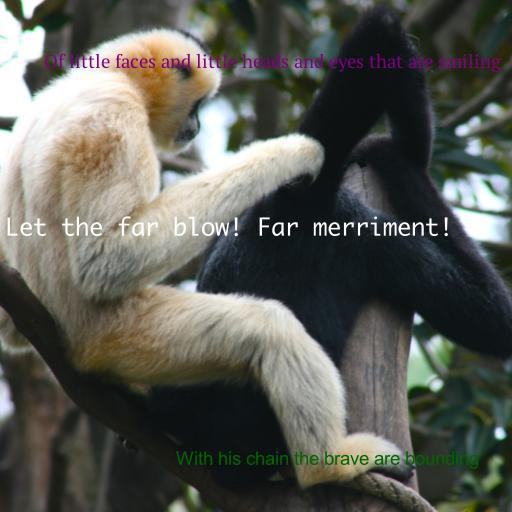Arial: (175, 451, 479, 469)
Monaco: (5, 216, 453, 237)
PT Serif: (43, 53, 501, 72)
